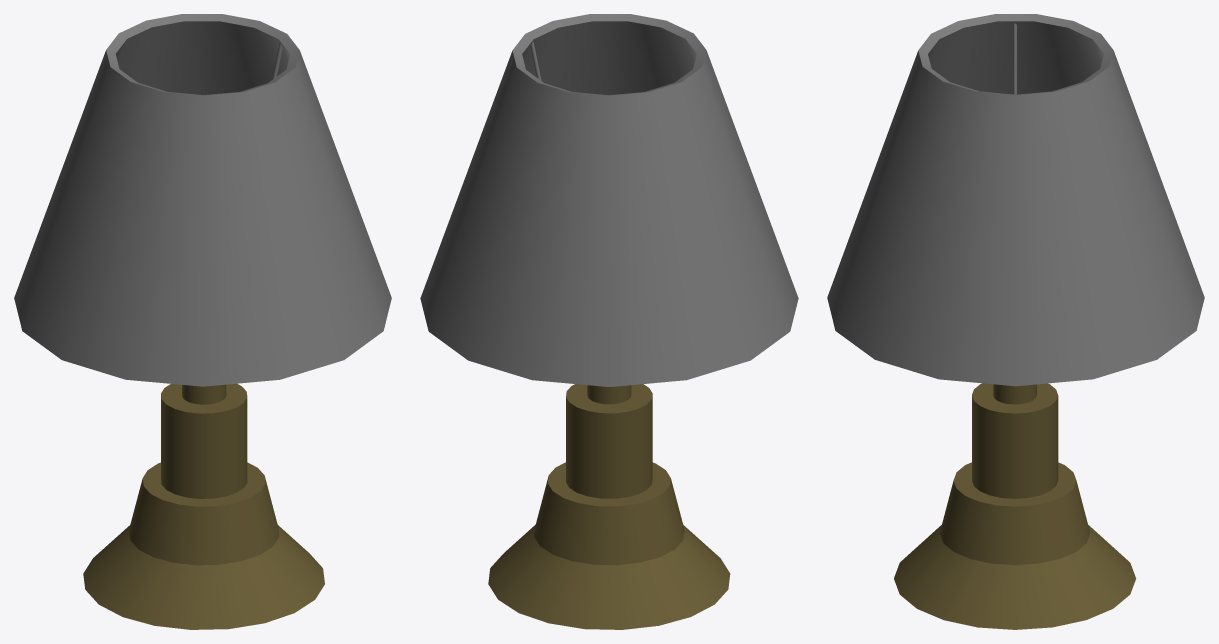
Rendered from LampFBX.fbx.
3 renders of one model, left to right at view 1: azimuth 30°, elevation 25°; view 2: azimuth 150°, elevation 25°; view 3: azimuth 270°, elevation 25°, orthographic.
Parts seen in each view (by area): view 1: Lamp:pCylinder1, Lamp1; view 2: Lamp:pCylinder1, Lamp1; view 3: Lamp:pCylinder1, Lamp1.
Part boxes in pixels (bbox=[...]): Lamp:pCylinder1: bbox=[14, 14, 391, 386]; Lamp1: bbox=[83, 383, 324, 629]; Lamp:pCylinder1: bbox=[420, 14, 798, 386]; Lamp1: bbox=[488, 384, 730, 629]; Lamp:pCylinder1: bbox=[827, 14, 1204, 386]; Lamp1: bbox=[894, 383, 1136, 629].
Size of the model in its own units: 0.9591 by 1.48 by 0.9644.
